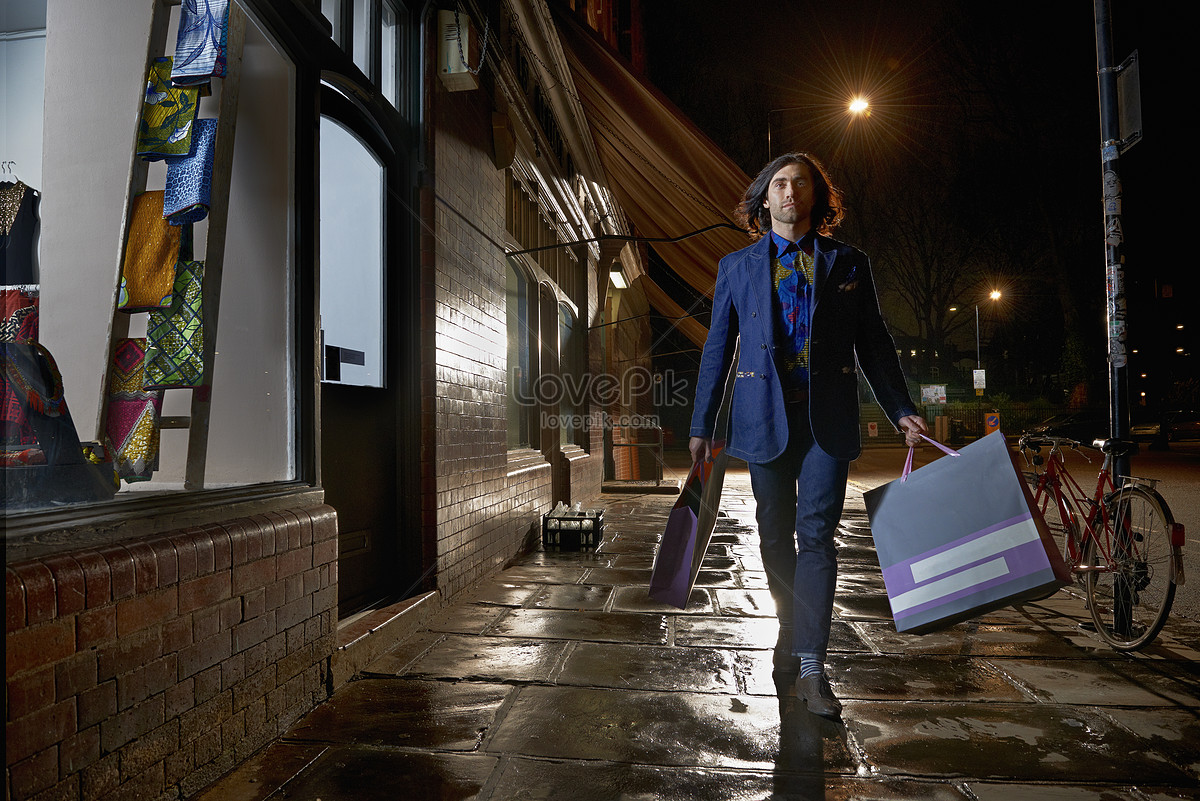bike: (1000, 426, 1186, 669)
person: (678, 150, 934, 720)
